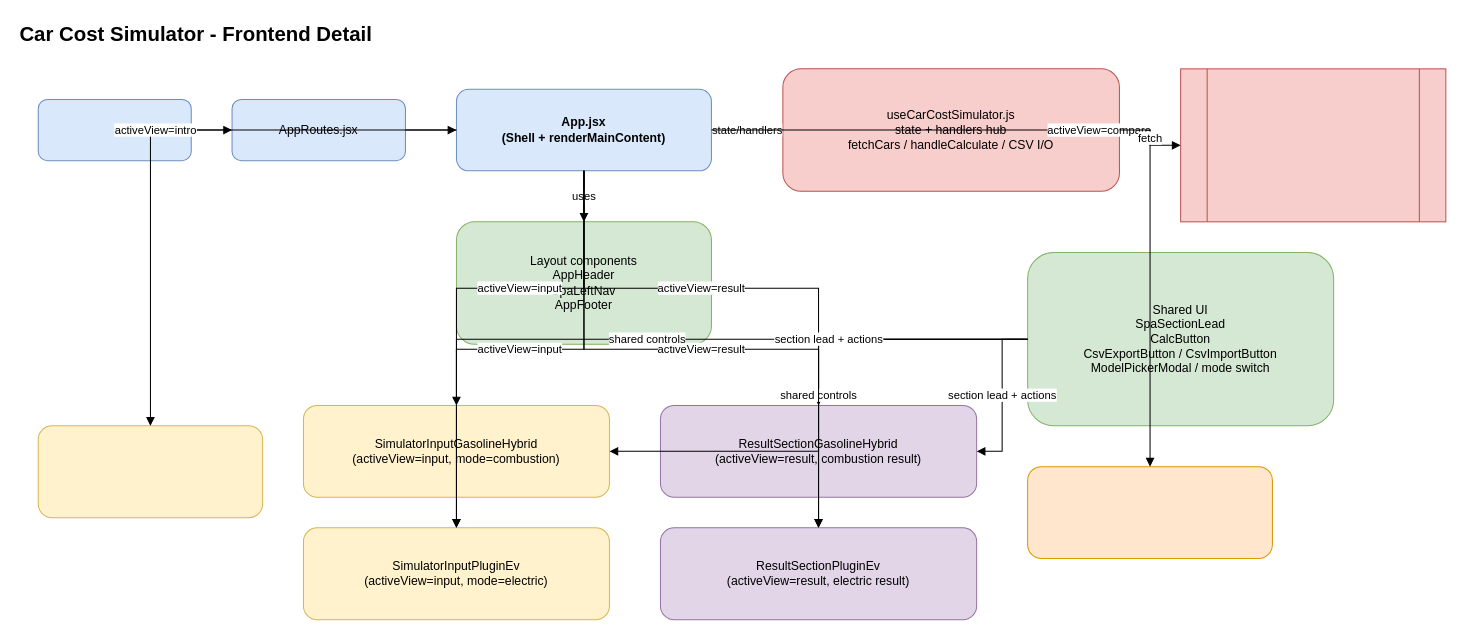
Image size: 1464x638. Some labels were removed from this diagram. The box of each missing label's shape, as (x1, y1, x2, y2) in pixels:
API_BASE /api/cars.php /api/calc.php /api/cars_export.php /api/cars_import.php: (1180, 68, 1446, 222)
ComparisonPage (activeView=compare): (1027, 466, 1272, 558)
main.jsx: (37, 98, 191, 161)
SimulatorIntro (activeView=intro): (37, 425, 263, 518)
